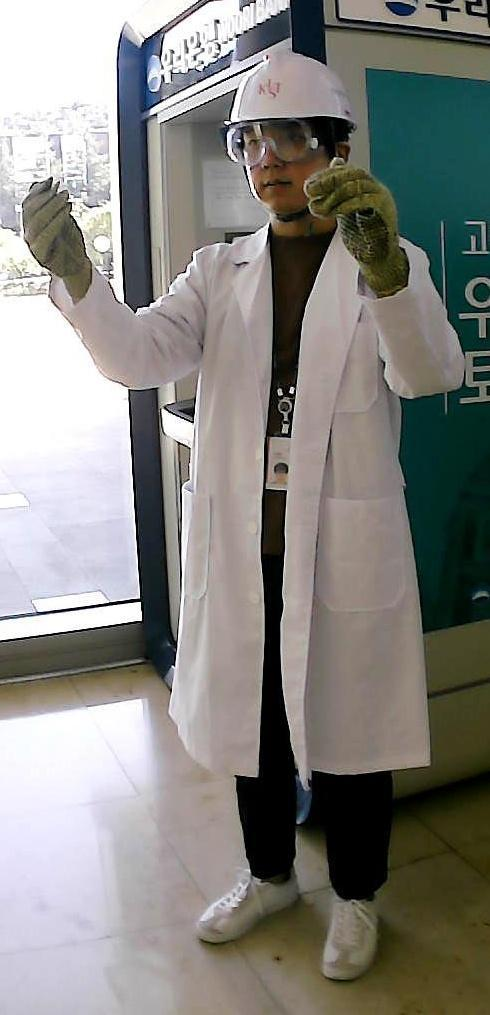lab_coat: (176, 254, 350, 756)
